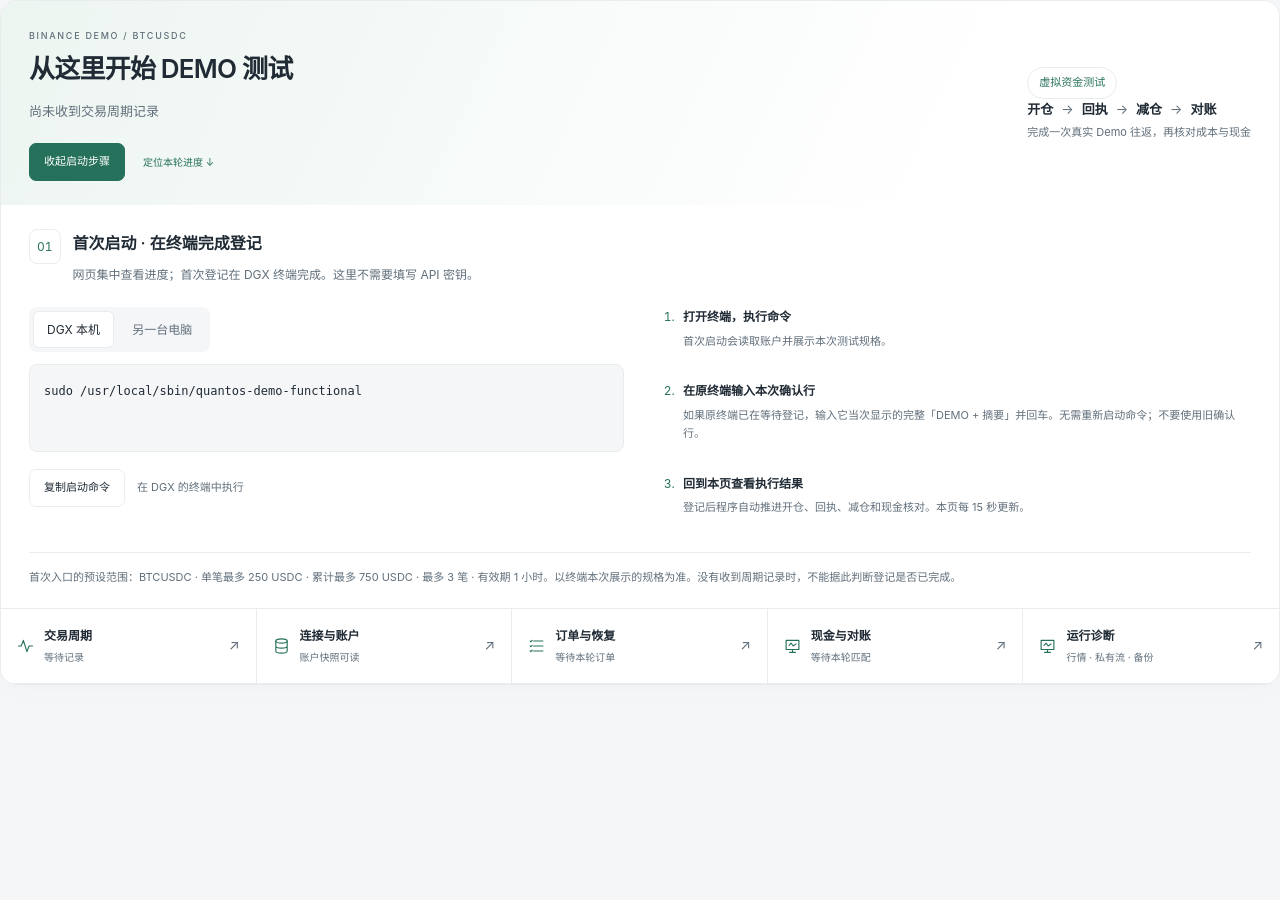
Test: selects the command for manual copying when clipboard access is unavailable on LAN HTTP
This screenshot has width=1280, height=900.
Click the button "复制启动命令" at (77, 488), box [29,469,125,507]
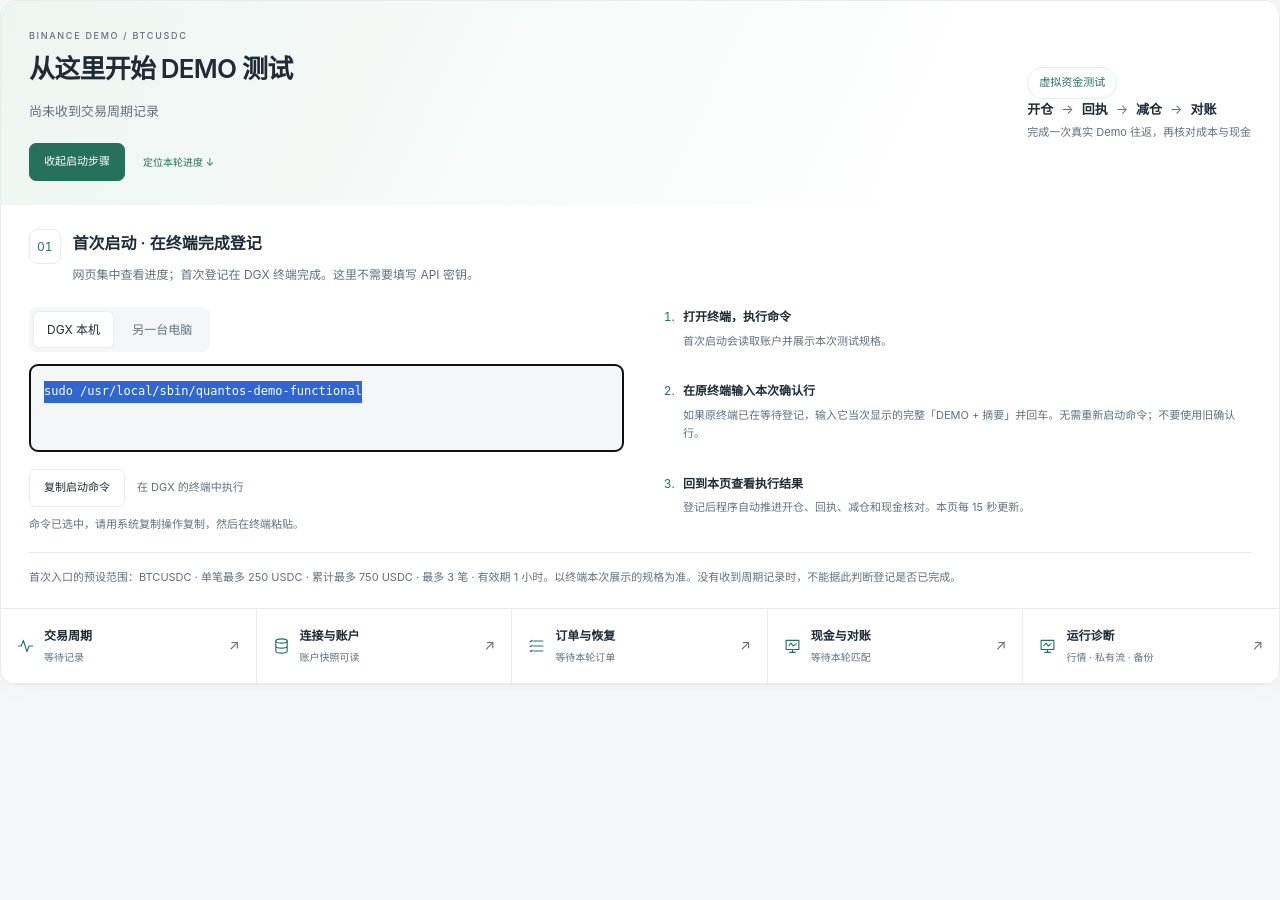
Now the message shows "命令已选中", box [29,517,304,531]
